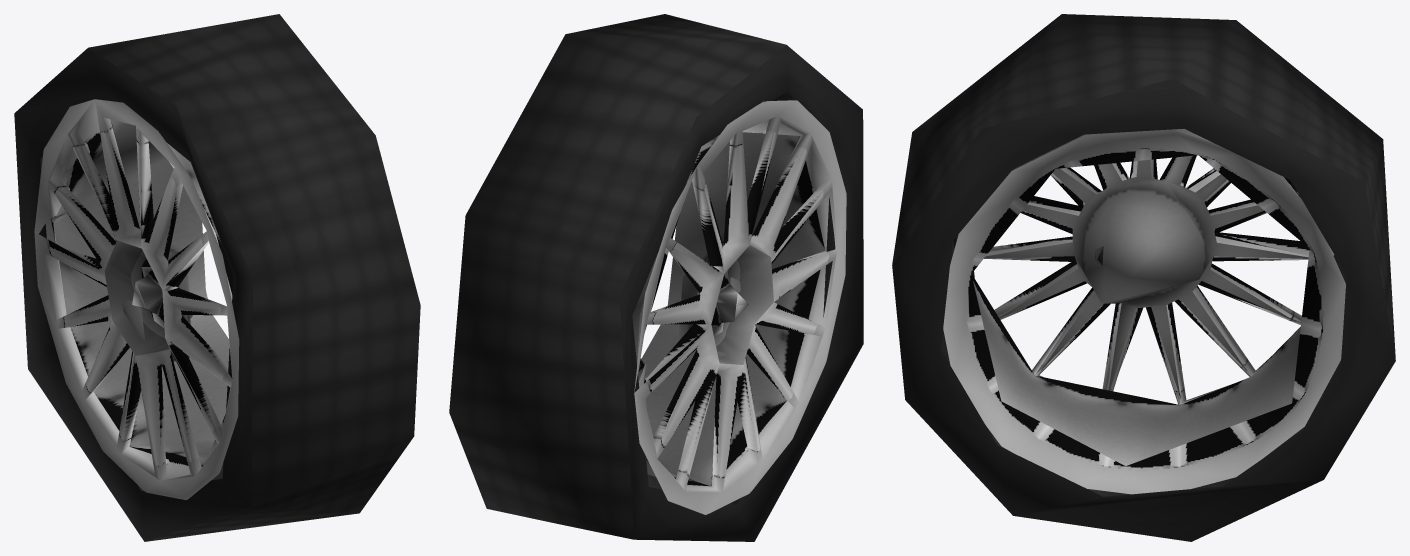
Rendered from FN_wheel_d1.obj.
3 views of the same model, side by side, from view 1: azimuth 30°, elevation 25°; view 2: azimuth 150°, elevation 25°; view 3: azimuth 270°, elevation 25° (orthographic). The views are drawn at different scales.
Visible parts, largest first — view 1: FN_wheel; view 2: FN_wheel; view 3: FN_wheel.
Part boxes in pixels (x1,y1,x2,y2): FN_wheel: [14, 14, 420, 541]; FN_wheel: [449, 14, 863, 541]; FN_wheel: [892, 14, 1395, 541].
Size of the model in its own units: 0.2172 by 0.6144 by 0.5998.
Materials: 1 (1 with a texture image).
